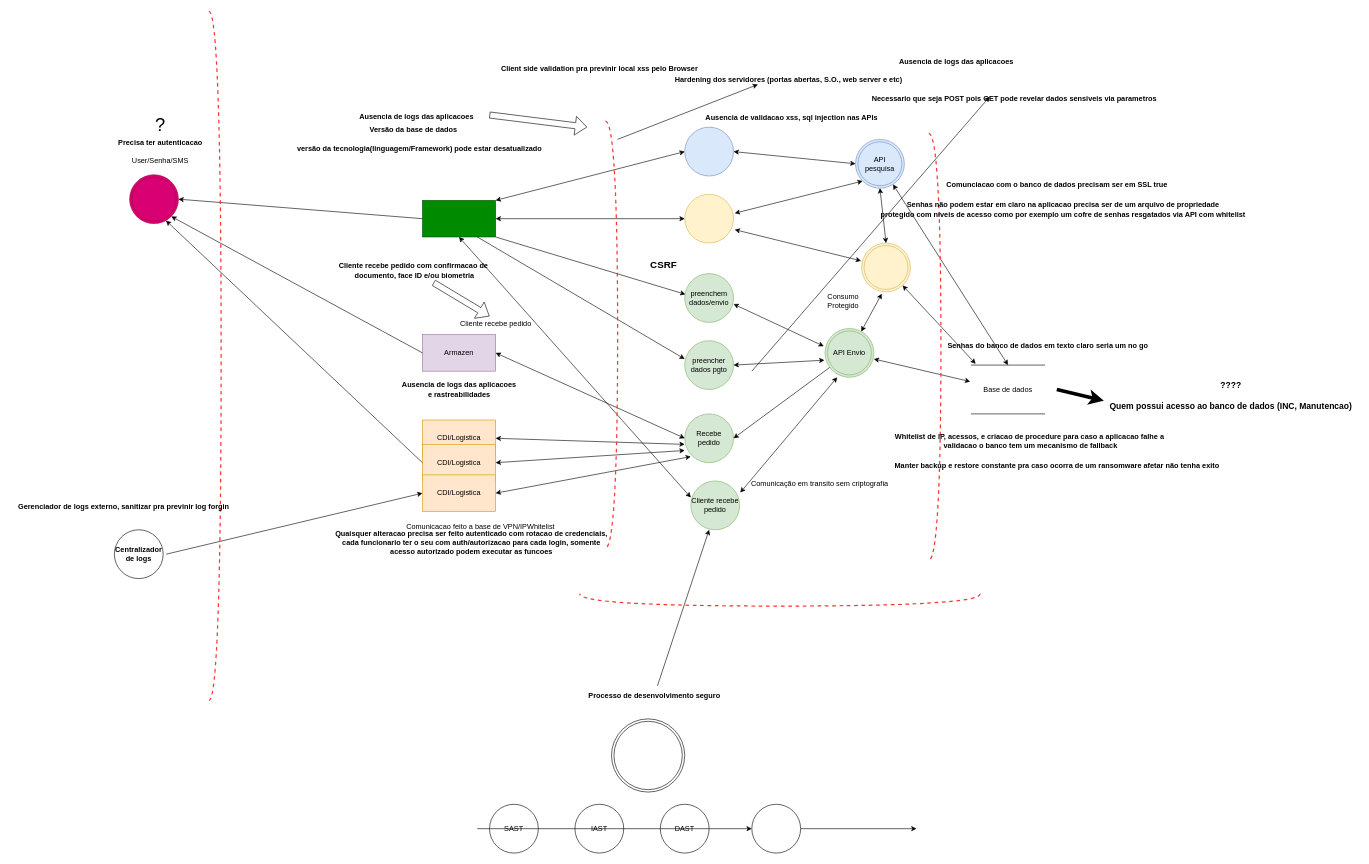
Some shapes in this 1369 by 864 pixel diagram are drawn without their labels. The centre of each missing label's shape, as x and y in pixels:
"Adciona carrinho" goes at pixel 709 218.
"API Cart" goes at pixel 885 267.
"Autenticacao" goes at pixel 153 199.
"Deploy" goes at pixel 776 828.
"Esteira de desenvolvimento seguro e deploy" goes at pixel 648 755.
"Pesquisa" goes at pixel 709 151.
"Usuario" goes at pixel 459 218.
